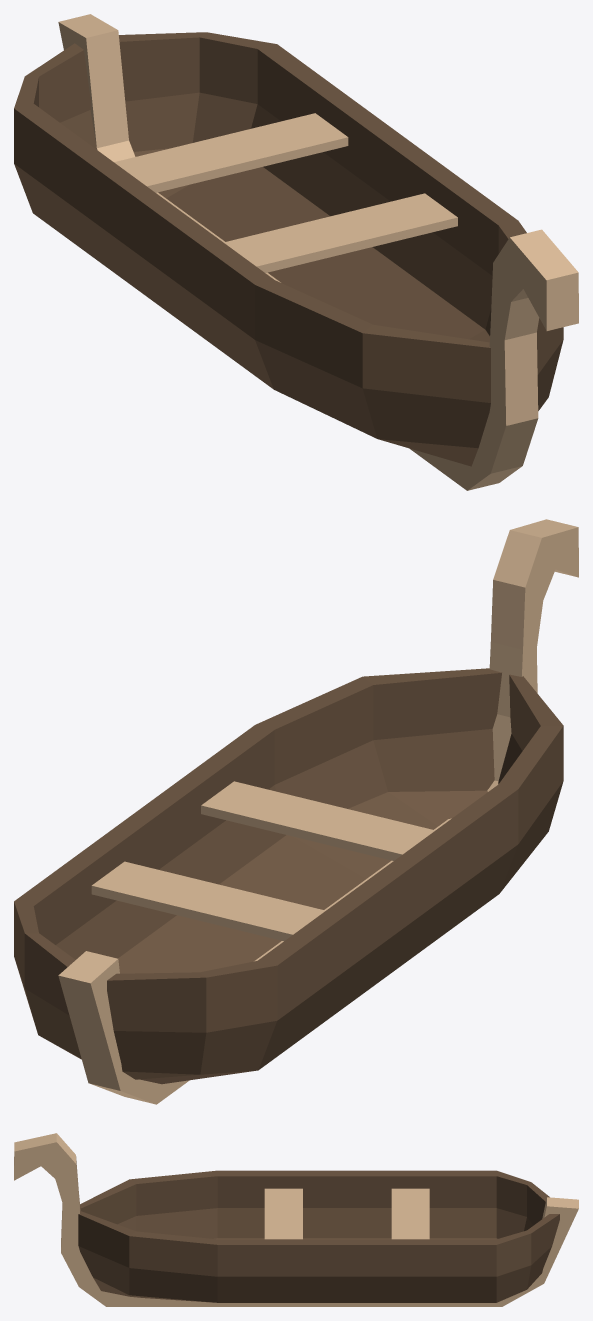
File: enemy boat.fbx
3 views of the same model, one above another, from view 1: azimuth 30°, elevation 25°; view 2: azimuth 150°, elevation 25°; view 3: azimuth 270°, elevation 25° (orthographic). The views are drawn at different scales.
Visible parts, largest first — view 1: Boat.001; view 2: Boat.001; view 3: Boat.001.
Boxes of the visible parts, <box> form: Boat.001: <box>14,14,578,490</box>; Boat.001: <box>14,519,578,1104</box>; Boat.001: <box>14,1133,578,1306</box>.
Bounding box in the file's own units: 1.71 × 1.76 × 5.48.
